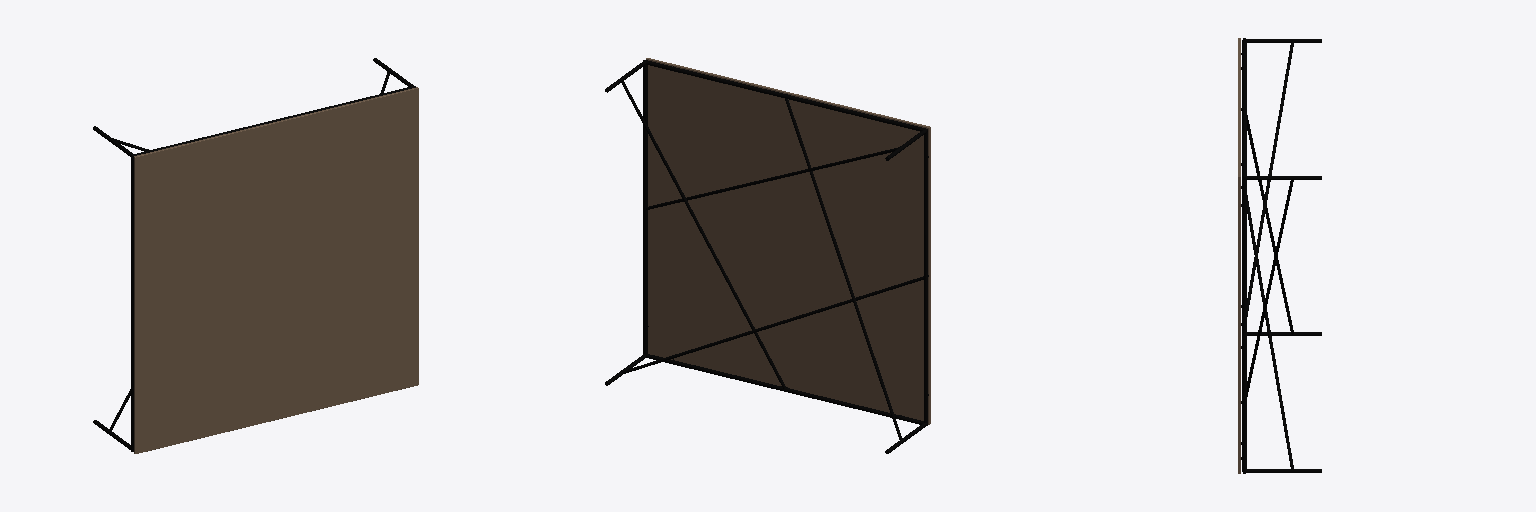
File: Furniture_Tables_CIDER-LA-MANUFACTURE_Static-Coffee-Table.obj
3 views of the same model, side by side, from view 1: azimuth 30°, elevation 25°; view 2: azimuth 150°, elevation 25°; view 3: azimuth 270°, elevation 25° (orthographic).
Parts seen in each view (by area): view 1: default; view 2: default; view 3: default.
Part boxes in pixels (x1,y1,x2,y2): default: (93,58,418,453); default: (605,58,930,453); default: (1238,38,1321,473).
Bounding box in the file's own units: 1200 × 1200 × 307.